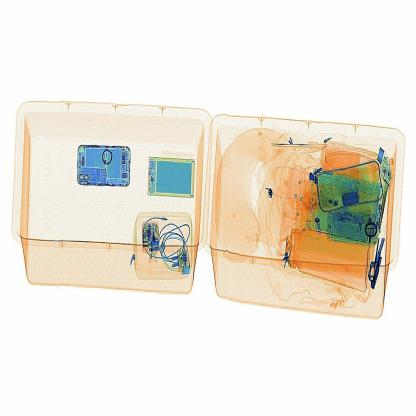wrench: (259, 133, 335, 163)
